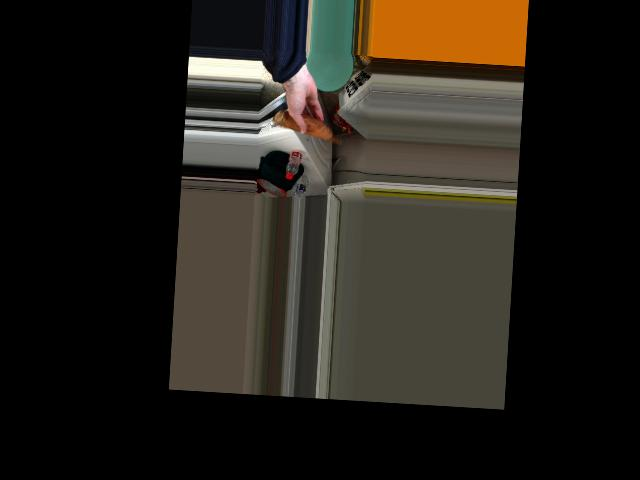sweet_potato: (275, 107, 341, 147)
